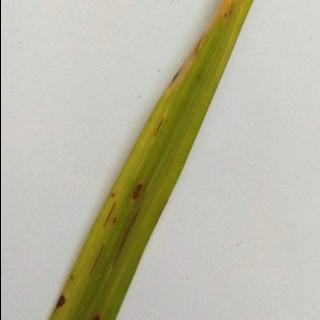Blast: (85, 157, 163, 240), (19, 278, 106, 320)
